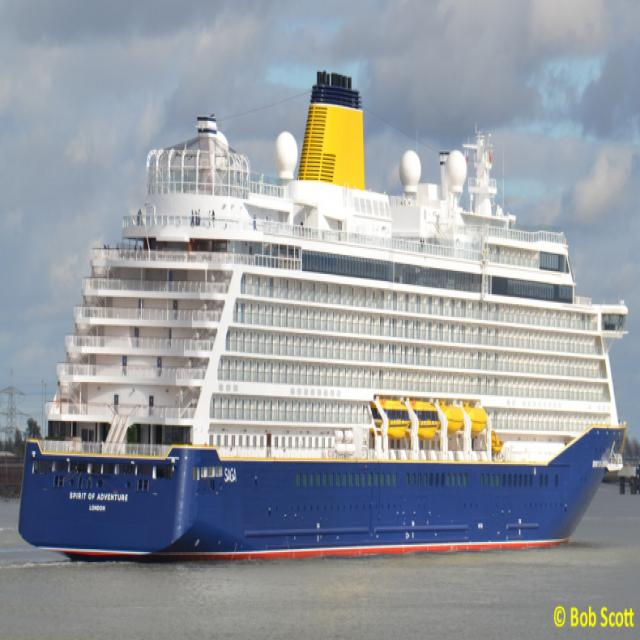cruises: (14, 66, 634, 575)
